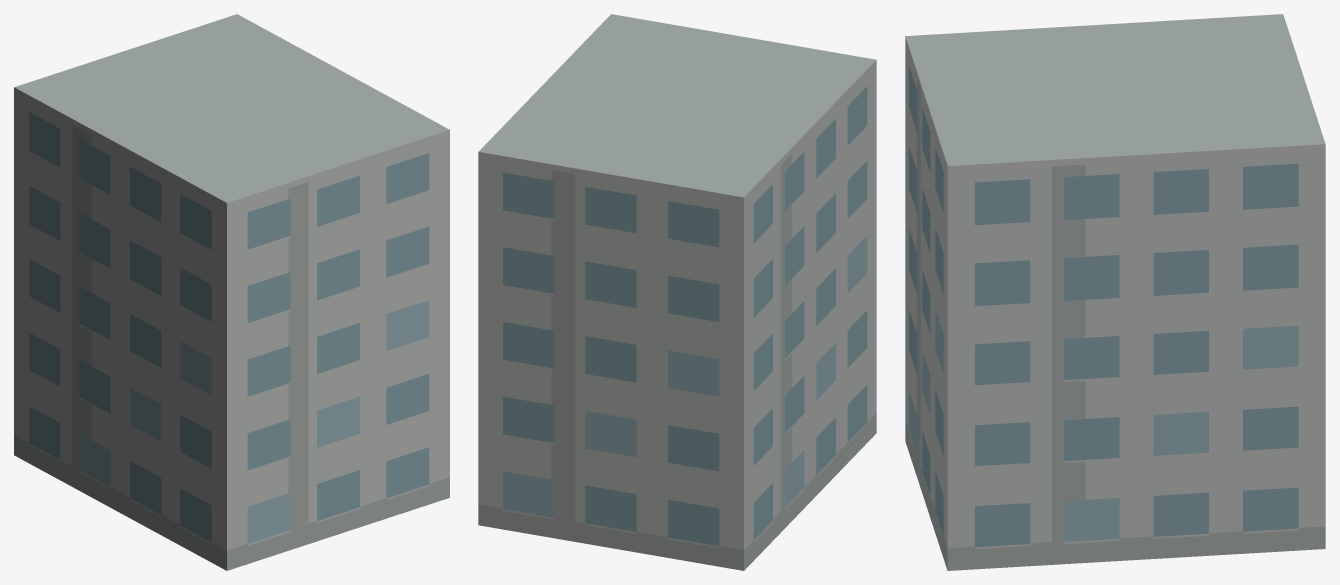
File: residential-96d7d3a8-ba87-436f-b860-14b31e8425f8.glb
3 renders of one model, left to right at view 1: azimuth 30°, elevation 25°; view 2: azimuth 150°, elevation 25°; view 3: azimuth 270°, elevation 25°, orthographic. The views are drawn at different scales.
Parts seen in each view (by area): view 1: residential-96d7d3a8-ba87-436f-b860-14b31e8425f8.tmp; view 2: residential-96d7d3a8-ba87-436f-b860-14b31e8425f8.tmp; view 3: residential-96d7d3a8-ba87-436f-b860-14b31e8425f8.tmp.
Part boxes in pixels (box(x1,y1,x2,y2)): residential-96d7d3a8-ba87-436f-b860-14b31e8425f8.tmp: box(14, 14, 449, 570); residential-96d7d3a8-ba87-436f-b860-14b31e8425f8.tmp: box(478, 14, 876, 570); residential-96d7d3a8-ba87-436f-b860-14b31e8425f8.tmp: box(905, 14, 1325, 570).
Size of the model in its own units: 12.3 by 15.25 by 14.36.
